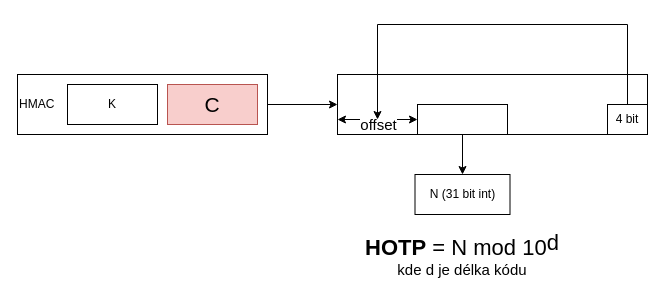
The diagram is 665 pixels wide and 296 high, and some of its shapes have lost their labels. Here are the shapes that lost their labels. From the top down, the box of each, then its label:
(416, 104, 508, 134): 4 bajty
(336, 74, 648, 134): HMAC value (20 bajtů)
